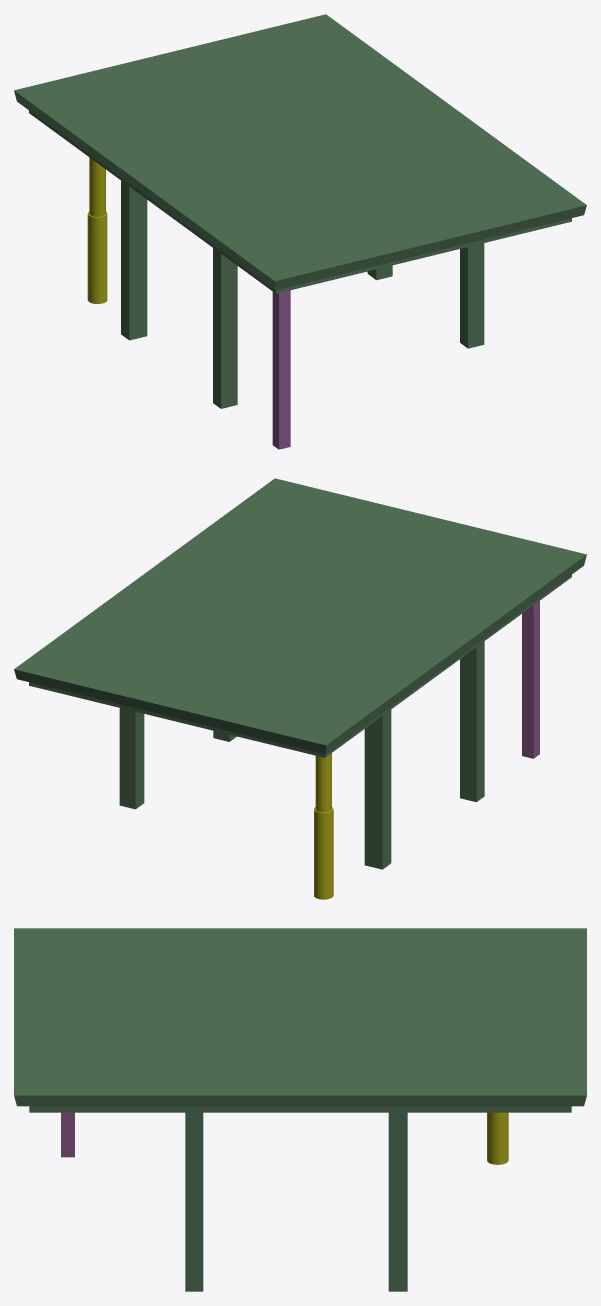
The model's file is gasolinera UV corte.fbx.
The picture shows the model from 3 angles, top to bottom: view 1: azimuth 30°, elevation 25°; view 2: azimuth 150°, elevation 25°; view 3: azimuth 270°, elevation 25°; orthographic projection. The views are drawn at different scales.
Parts seen in each view (by area): view 1: cuerpo1, Box003, base; view 2: cuerpo1, Box003, base; view 3: cuerpo1, base, Box003.
Boxes of the visible parts, x1,y1,x2,y2 form: cuerpo1: (14, 14, 586, 408); Box003: (272, 290, 290, 449); base: (87, 157, 107, 303); cuerpo1: (14, 478, 586, 869); Box003: (522, 601, 539, 758); base: (314, 753, 333, 899); cuerpo1: (14, 928, 586, 1291); base: (487, 1112, 508, 1164); Box003: (61, 1112, 74, 1157).
Bounding box in the file's own units: 136 × 79.3 × 197.
